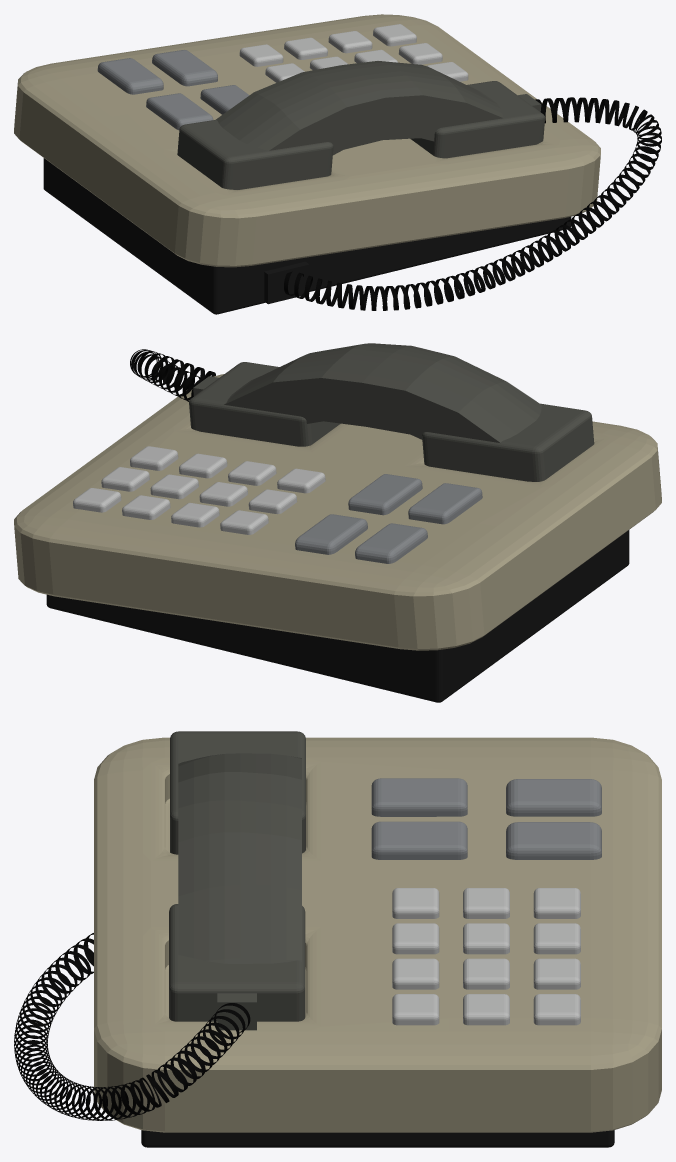
Rendered from OfficePhone.fbx.
The picture shows the model from 3 angles, top to bottom: view 1: azimuth 30°, elevation 25°; view 2: azimuth 150°, elevation 25°; view 3: azimuth 270°, elevation 25°; orthographic projection. The views are drawn at different scales.
Visible parts, largest first — view 1: phonebase, phoneconnector, foundation, cord, phone, numpad, phone.001, otherbuttons, morebuttons; view 2: phonebase, phoneconnector, foundation, numpad, phone, phone.001, morebuttons, otherbuttons, cord; view 3: phonebase, phoneconnector, numpad, cord, phone.001, foundation, morebuttons, otherbuttons, phone.
Boxes of the visible parts, x1,y1,x2,y2 form: phonebase: (14,14,600,267); phoneconnector: (215,61,503,155); foundation: (43,158,571,314); cord: (284,97,661,310); phone: (177,120,333,189); numpad: (239,24,468,82); phone.001: (410,81,545,158); otherbuttons: (97,50,217,94); morebuttons: (146,85,249,130); phonebase: (14,374,661,650); phoneconnector: (224,343,541,442); foundation: (46,530,629,702); numpad: (73,446,325,534); phone: (422,403,594,481); phone.001: (189,362,340,446); morebuttons: (348,474,482,524); otherbuttons: (295,514,427,563); cord: (130,349,215,401); phonebase: (94,737,661,1132); phoneconnector: (178,753,301,963); numpad: (392,888,580,1025); cord: (14,933,250,1120); phone.001: (169,904,305,1030); foundation: (141,1130,614,1147); morebuttons: (371,778,467,859); otherbuttons: (506,779,601,859); phone: (170,731,305,854).
Bounding box in the file's own units: 400 × 140 × 342.
